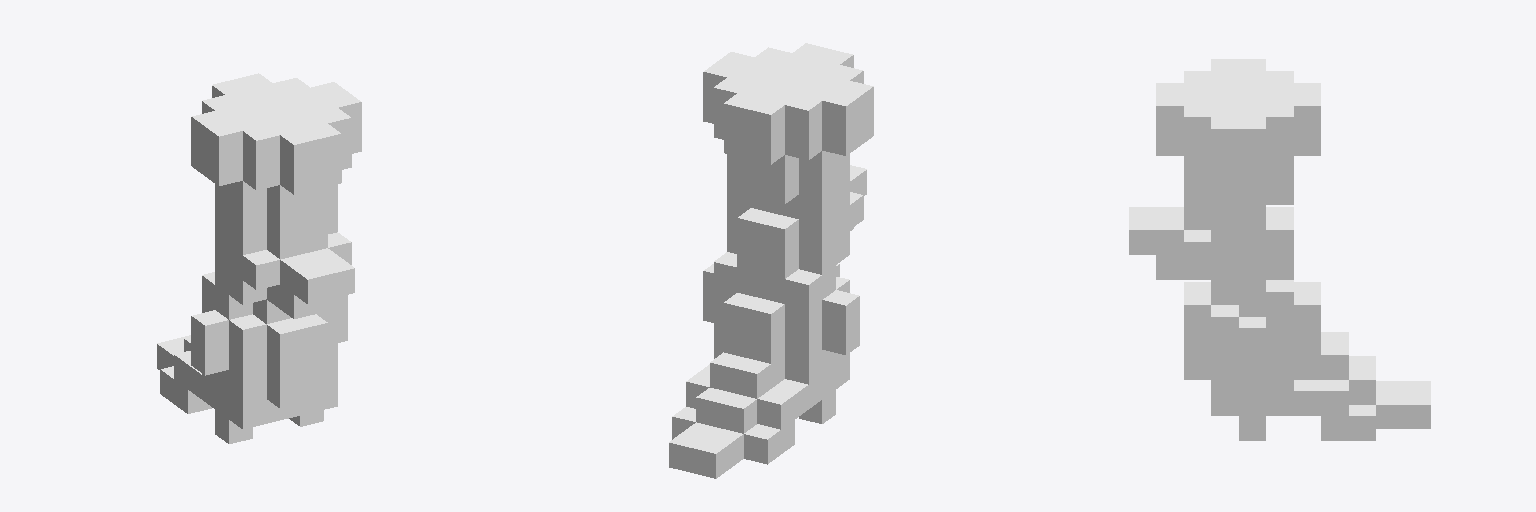
Rendered from Povar.obj.
The picture shows the model from 3 angles: view 1: azimuth 30°, elevation 25°; view 2: azimuth 150°, elevation 25°; view 3: azimuth 270°, elevation 25°; orthographic projection.
Parts seen in each view (by area): view 1: object 1; view 2: object 1; view 3: object 1.
Part boxes in pixels (x1,y1,x2,y2): object 1: (157, 73, 361, 443); object 1: (669, 43, 873, 478); object 1: (1129, 59, 1430, 440).
Size of the model in its own units: 0.6 by 1.3 by 1.1.